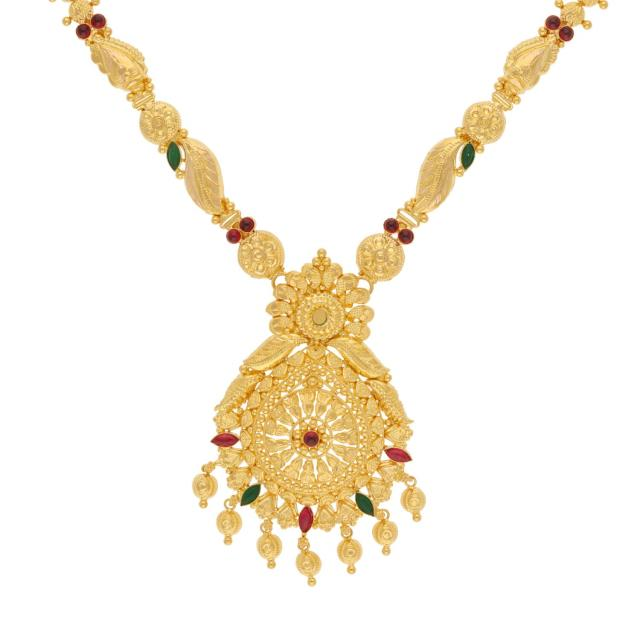missing gem: (313, 310, 326, 324)
